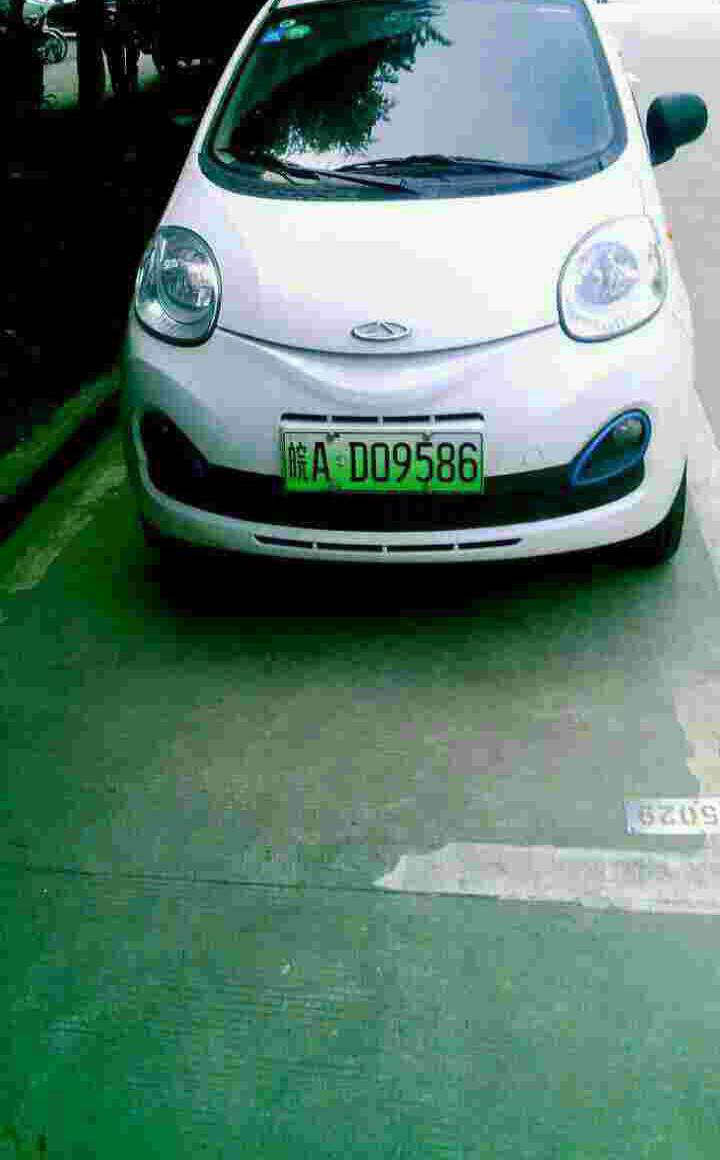car_green: (276, 419, 490, 494)
